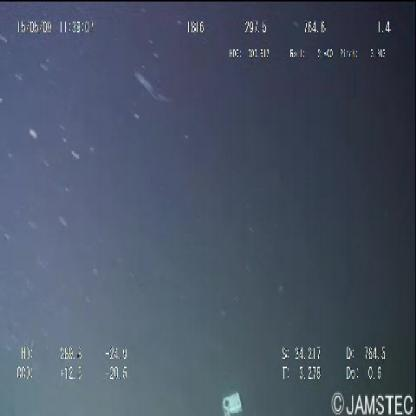Rác: (222, 393, 243, 415)
